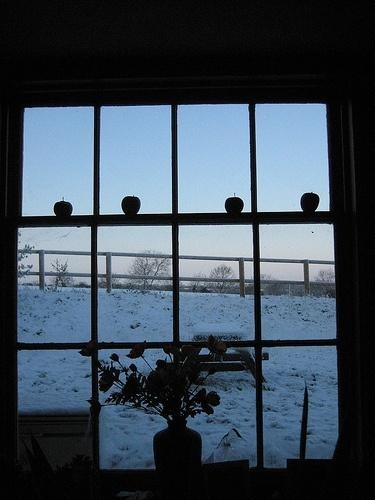pottedplant: (78, 333, 230, 472)
